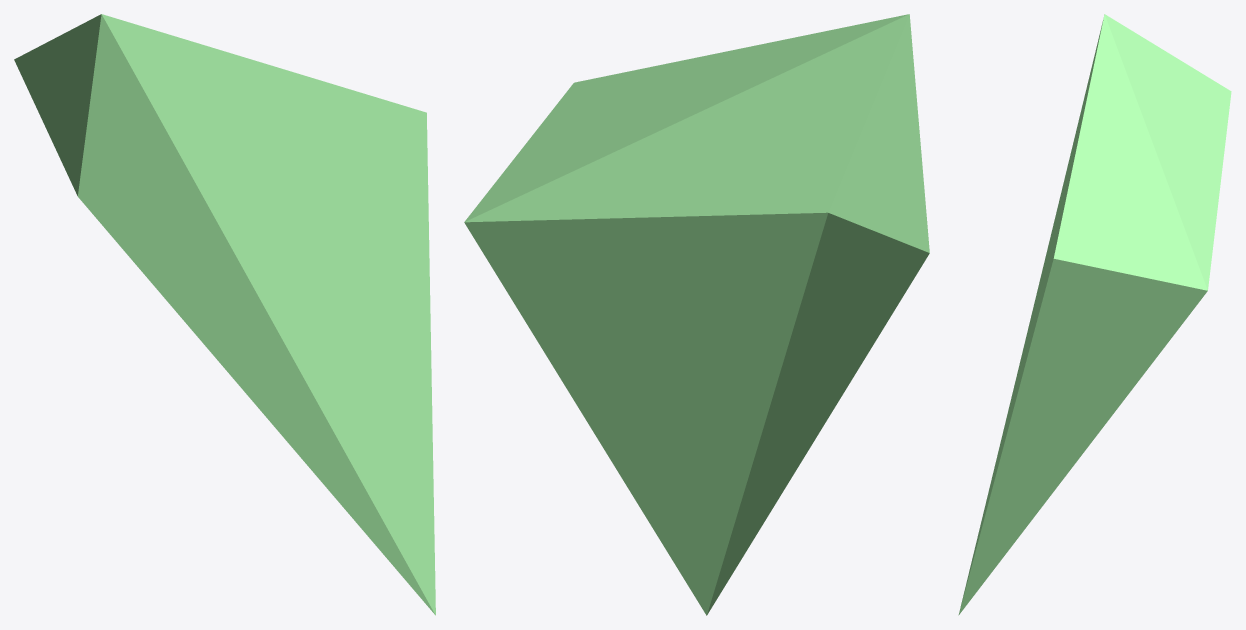
The model's file is UMIRobot_UMIRobot_link_5_convex_coll_42.dae.
The picture shows the model from 3 angles, left to right: view 1: azimuth 30°, elevation 25°; view 2: azimuth 150°, elevation 25°; view 3: azimuth 270°, elevation 25°; orthographic projection. The views are drawn at different scales.
Parts seen in each view (by area): view 1: node; view 2: node; view 3: node.
Part boxes in pixels (x1,y1,x2,y2): node: (14, 14, 435, 615); node: (464, 14, 929, 615); node: (958, 14, 1231, 615).
Size of the model in its own units: 0.00194 by 0.00352 by 0.00174.
